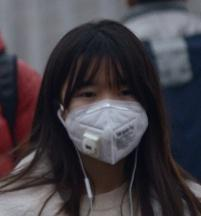OK: (63, 69, 148, 163)
